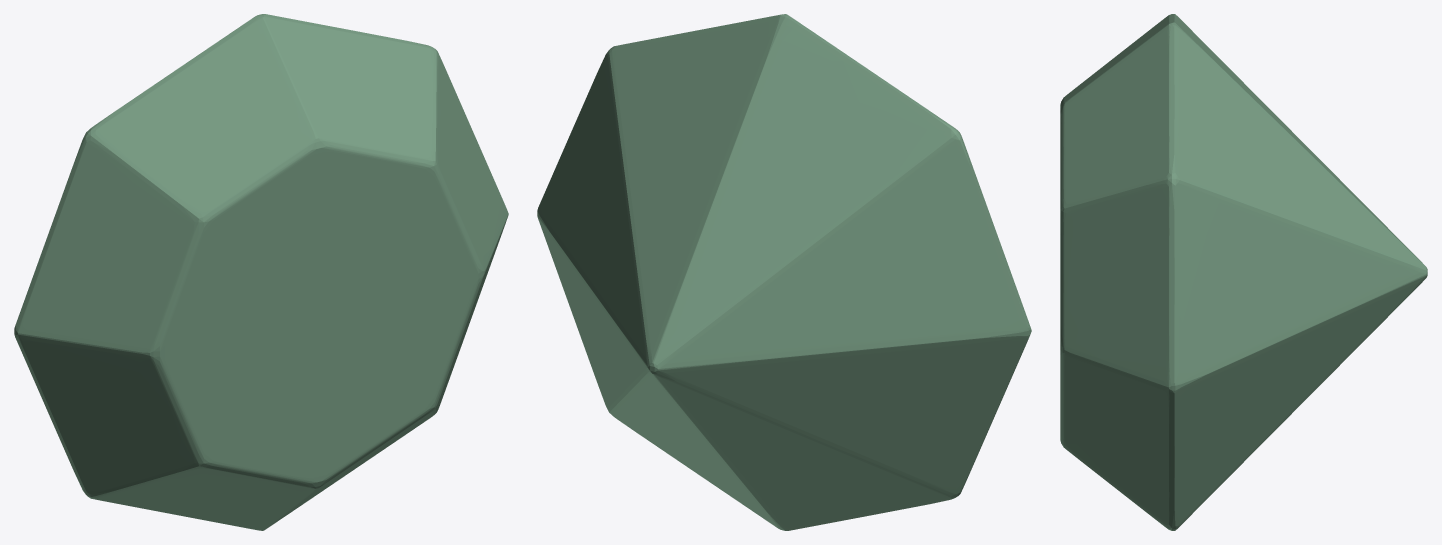
The model's file is diamond-coacd.obj.
3 renders of one model, left to right at view 1: azimuth 30°, elevation 25°; view 2: azimuth 150°, elevation 25°; view 3: azimuth 270°, elevation 25°, orthographic. The views are drawn at different scales.
Parts seen in each view (by area): view 1: geometry_0; view 2: geometry_0; view 3: geometry_0.
Part boxes in pixels (x1,y1,x2,y2): geometry_0: (14, 14, 508, 530); geometry_0: (537, 14, 1031, 530); geometry_0: (1060, 14, 1427, 530).
Bounding box in the file's own units: 36.08 × 36.08 × 24.16.
